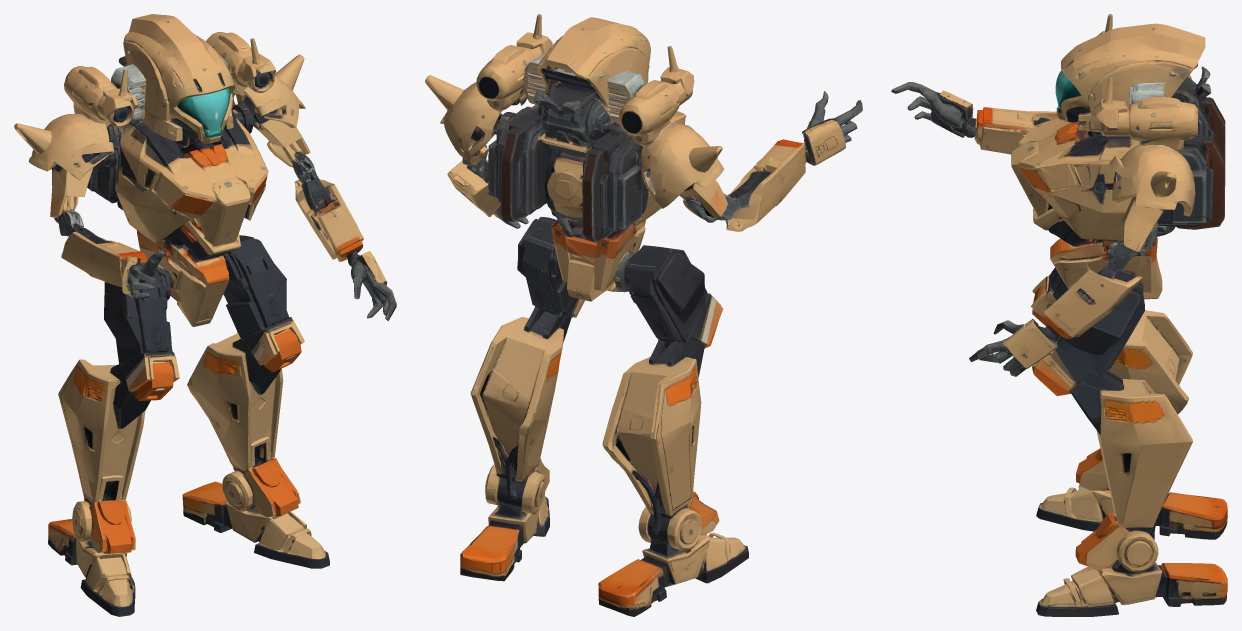
The model's file is en02_desert_swarm.fbx.
3 renders of one model, left to right at view 1: azimuth 30°, elevation 25°; view 2: azimuth 150°, elevation 25°; view 3: azimuth 270°, elevation 25°, orthographic. The views are drawn at different scales.
Parts seen in each view (by area): view 1: Mesh_0; view 2: Mesh_0; view 3: Mesh_0.
Part boxes in pixels (bbox=[...]): Mesh_0: bbox=[14, 14, 396, 616]; Mesh_0: bbox=[425, 14, 862, 616]; Mesh_0: bbox=[891, 14, 1227, 616].
Size of the model in its own units: 108 by 180 by 103.
Materials: 1 (1 with a texture image).
